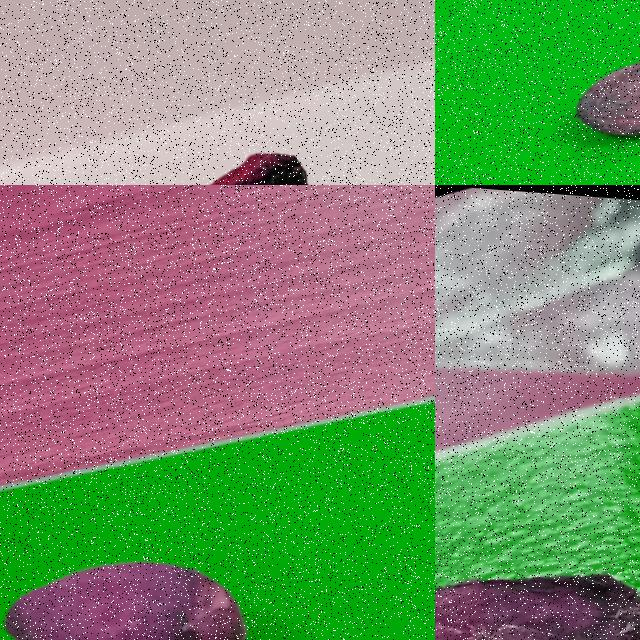Fine_cocoabeans: (0, 456, 371, 639)
Flat_cocoabeans: (0, 68, 382, 184), (435, 432, 639, 639), (435, 0, 639, 184)
